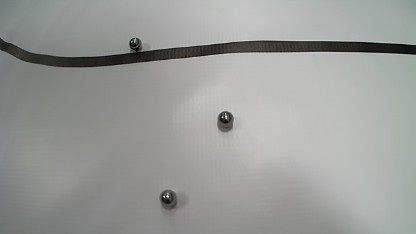ironball: (159, 189, 177, 209), (217, 111, 234, 132), (129, 37, 141, 50)
